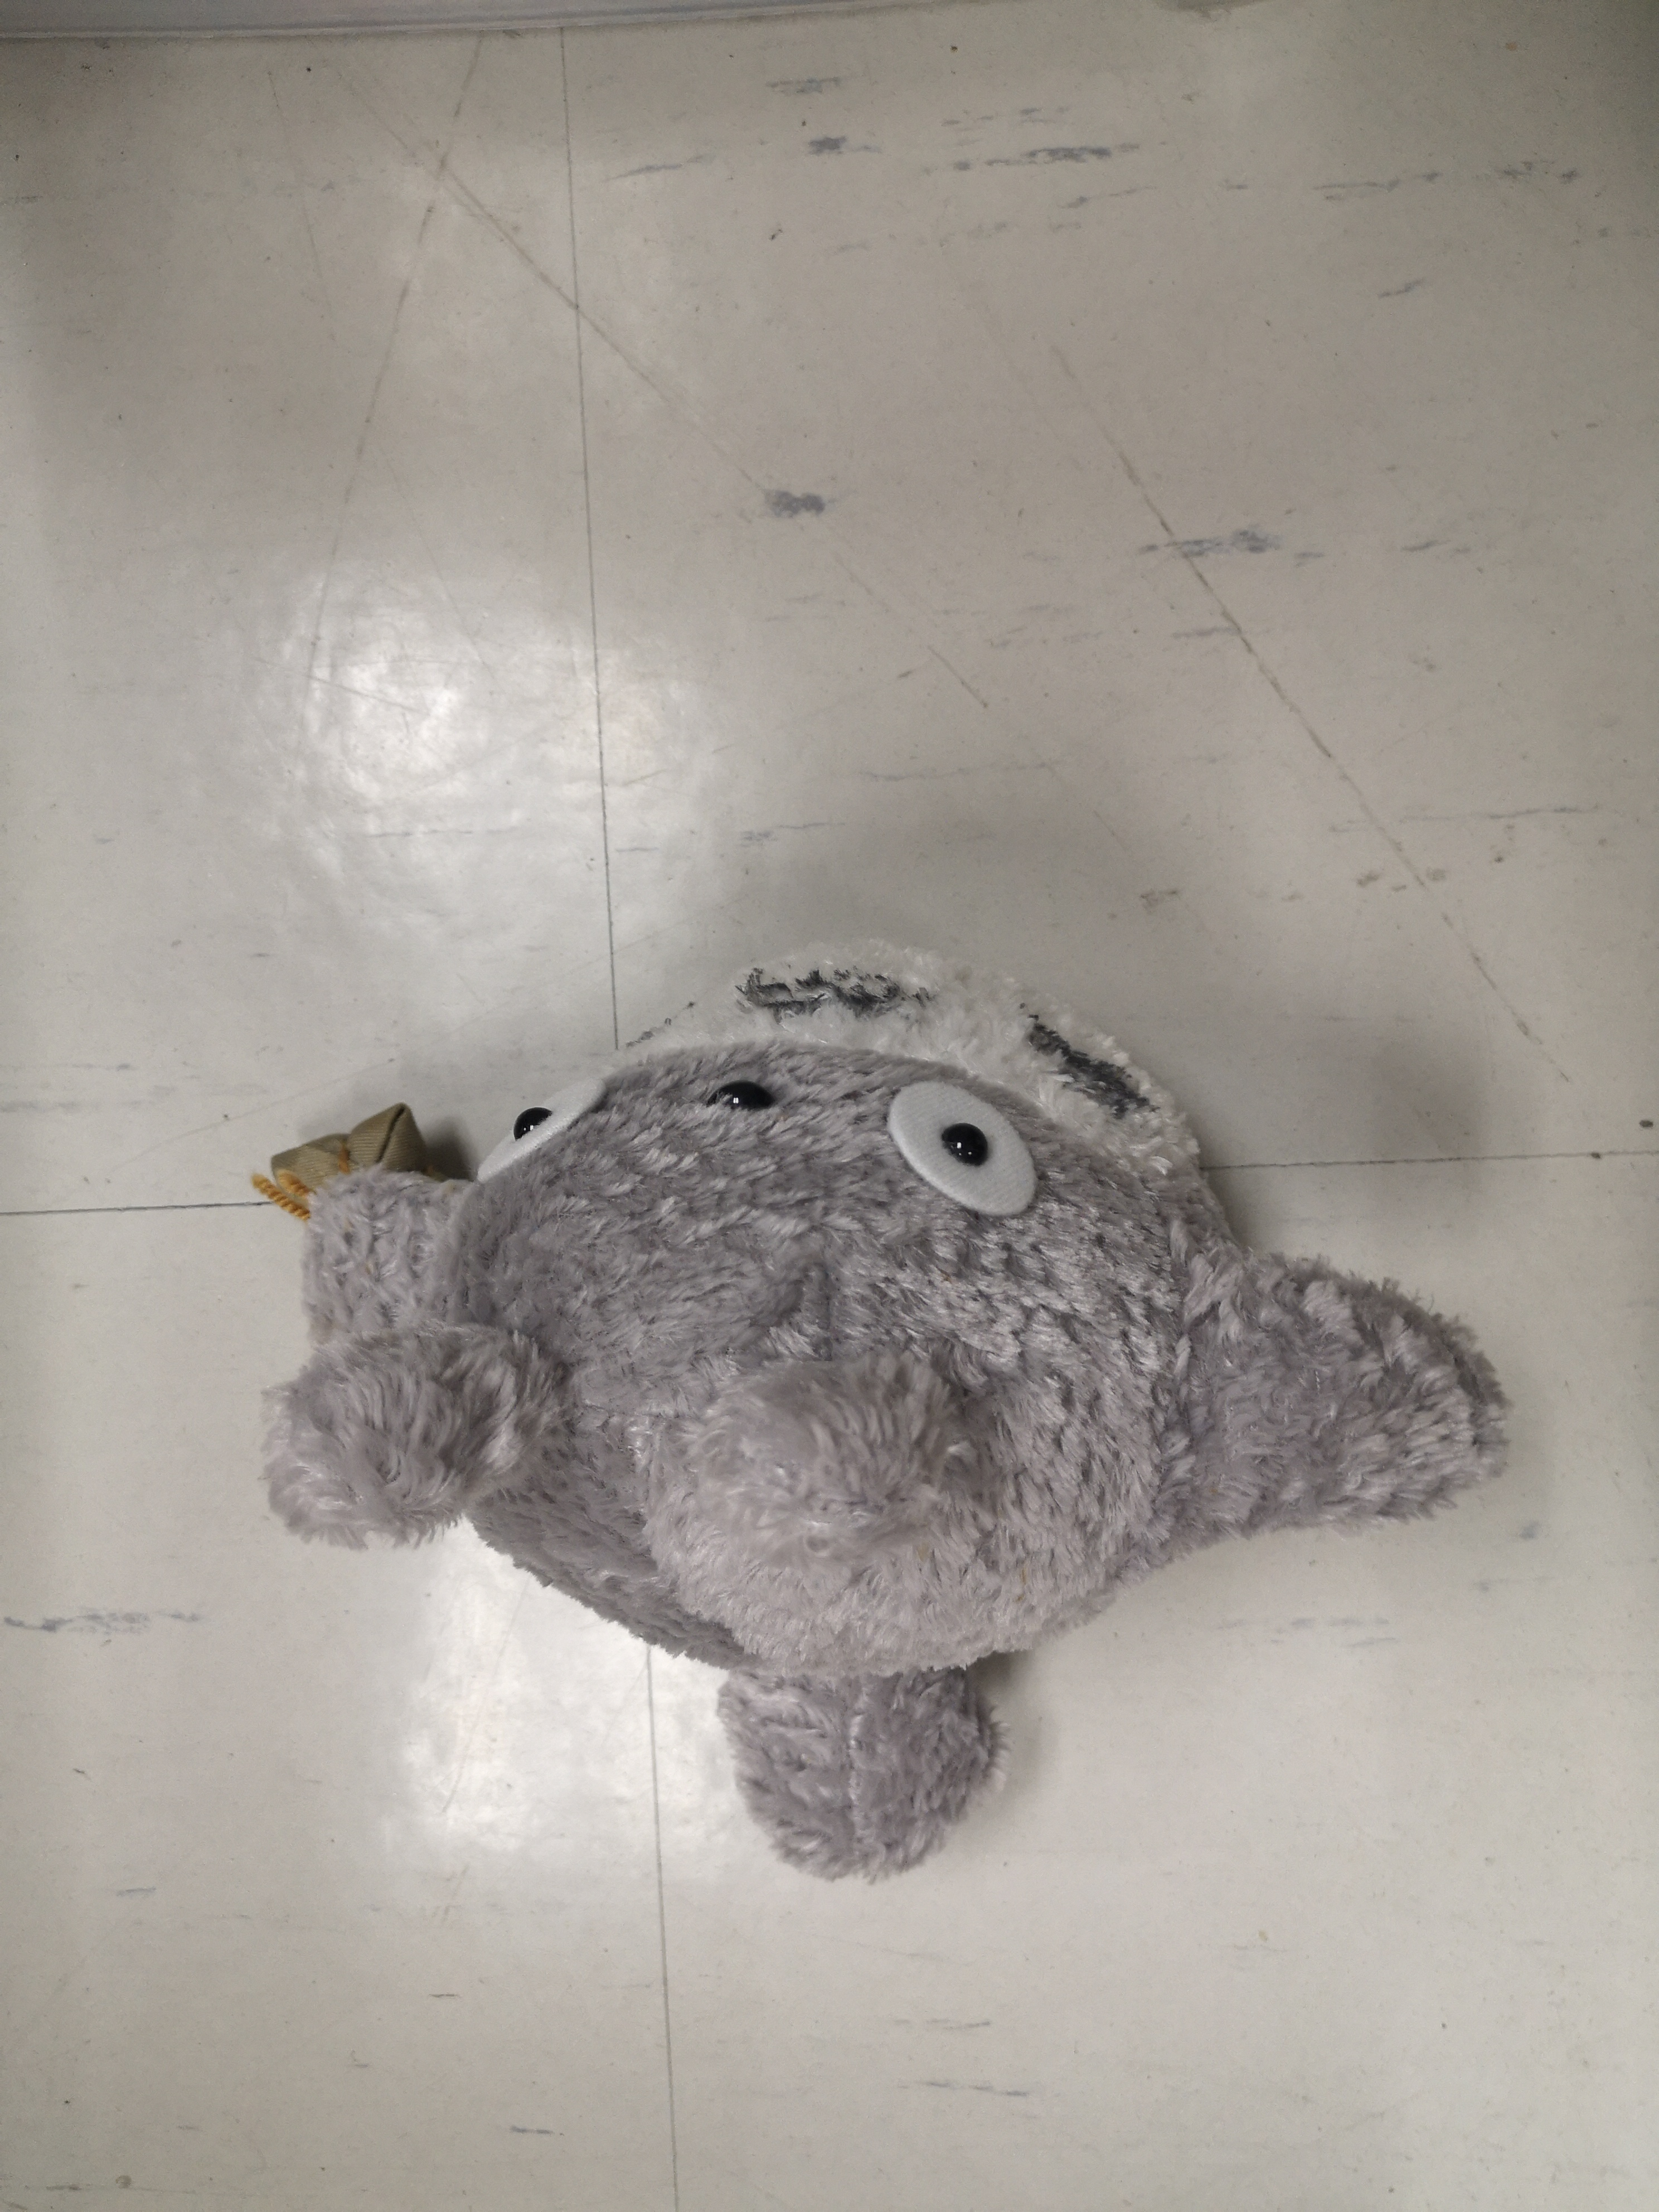totoro: (244, 930, 1509, 1893)
